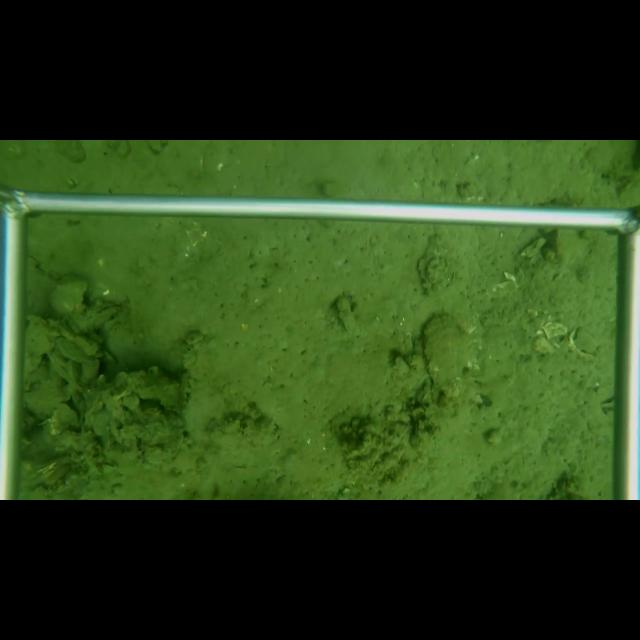Oyster-Closed: (421, 313, 473, 397), (48, 275, 88, 315), (80, 300, 118, 334), (55, 336, 93, 366), (47, 350, 73, 386), (334, 298, 358, 334)
